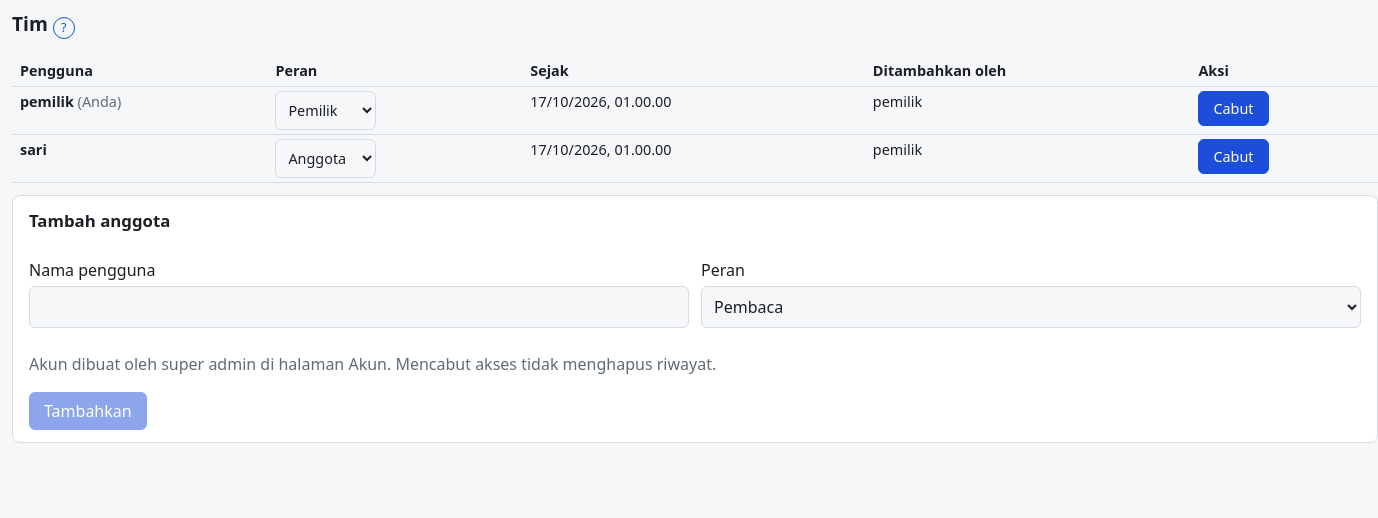
Test: TeamPanel: menambah anggota › galat server 404 ditampilkan apa adanya
Expected: the table named "Anggota" is shown, left=12, top=56, right=1377, bottom=183
In the field labelled "Nama pengguna": (359, 307) left=29, top=286, right=689, bottom=328, type "x"
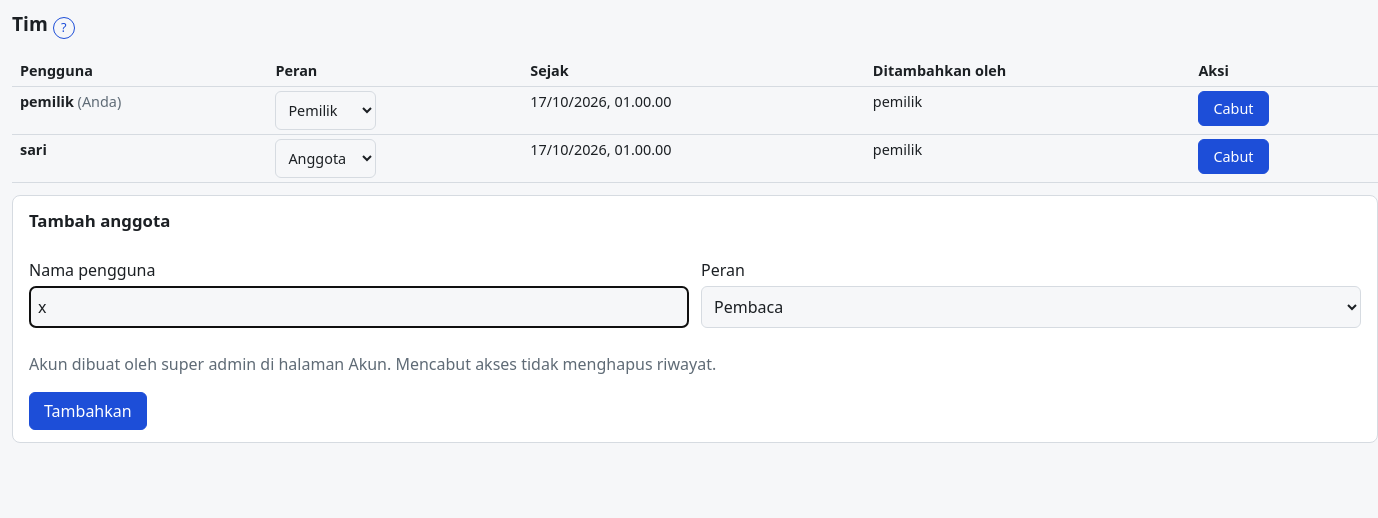
Click the button "Tambahkan": (88, 411) left=29, top=392, right=147, bottom=430
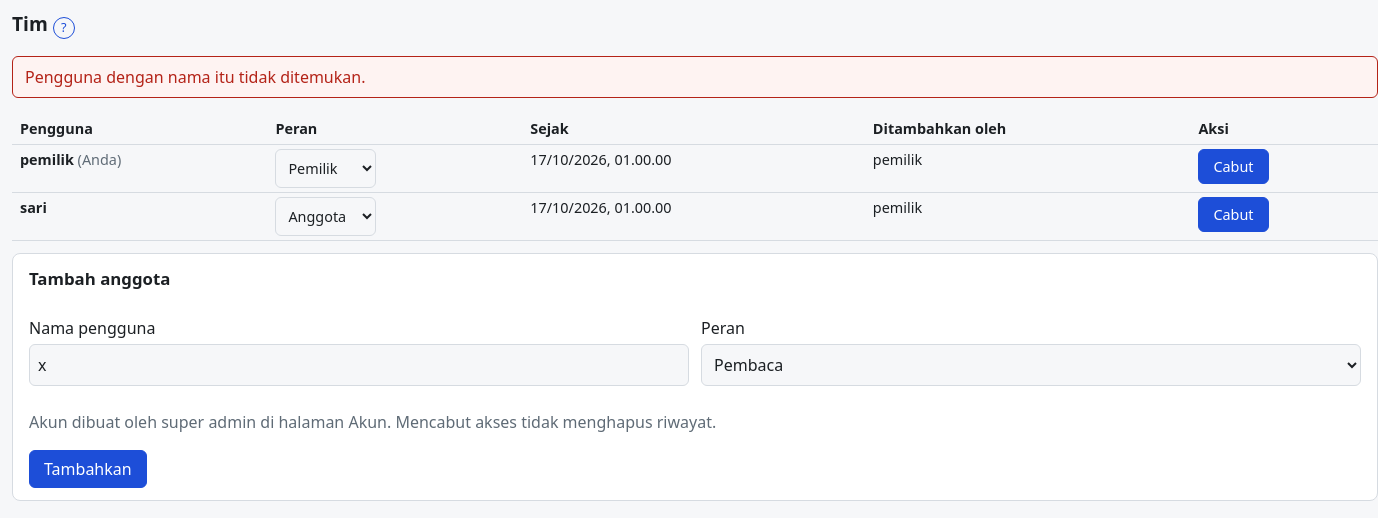
Now the message reads "Pengguna dengan nama itu tidak ditemukan.", box left=25, top=66, right=366, bottom=88
